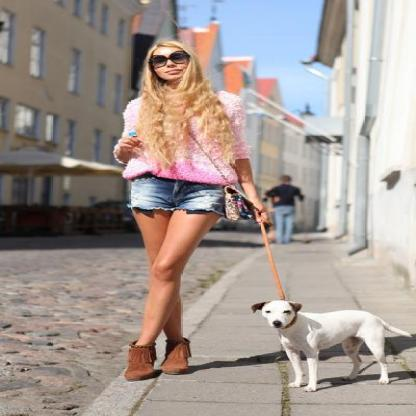bag: (212, 191, 258, 220)
jacket: (113, 92, 258, 186)
shoe: (125, 335, 190, 381)
shorts: (124, 171, 242, 224)
sunglass: (152, 50, 186, 69)
